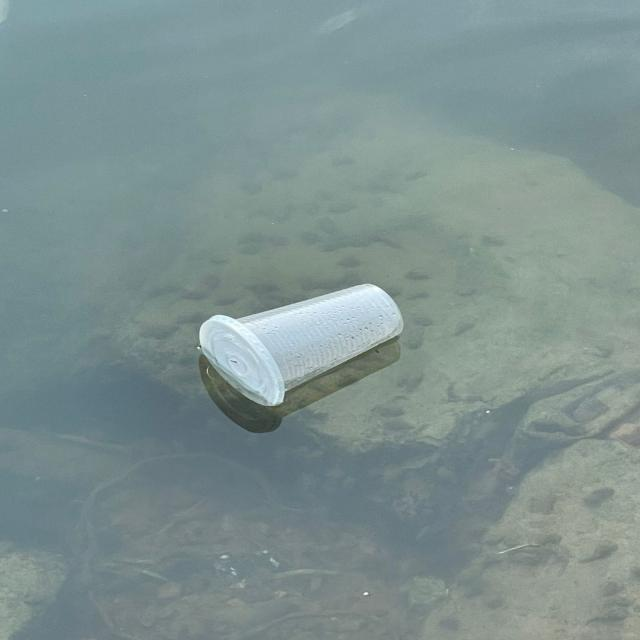Bungkus Minuman: (186, 275, 423, 414)
